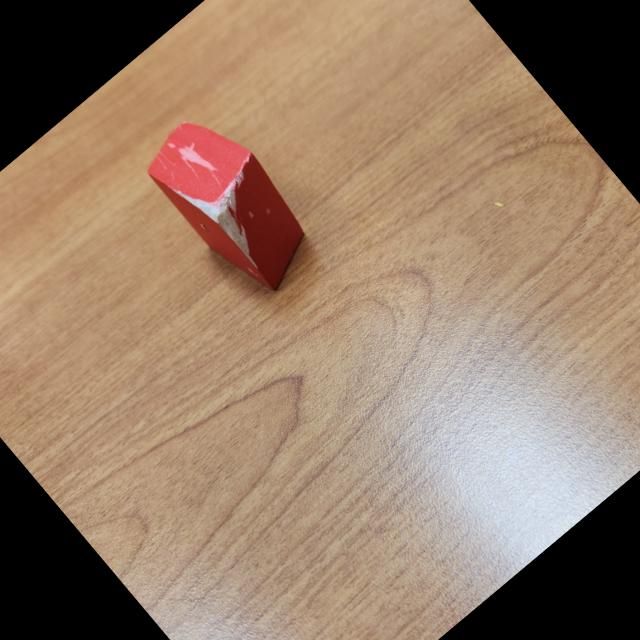broken: (134, 98, 330, 304)
